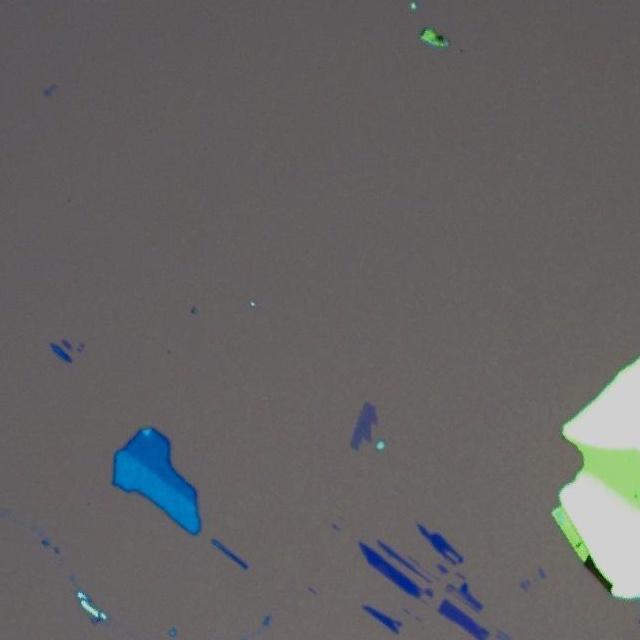monolayer-eWW4: (351, 400, 378, 452)
